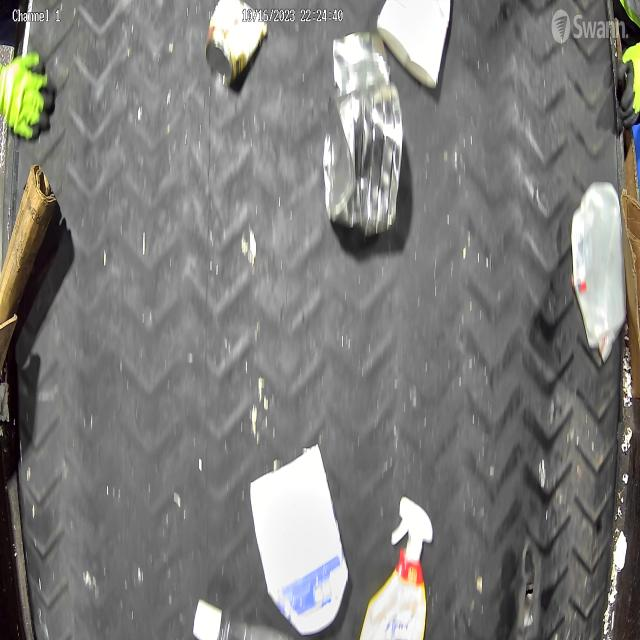can: (322, 83, 402, 236), (205, 0, 267, 86)
milk_jug: (571, 181, 627, 363)
non_white_jug: (359, 496, 433, 640)
